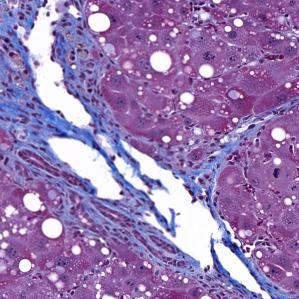fibrosis: (4, 57, 108, 177)
